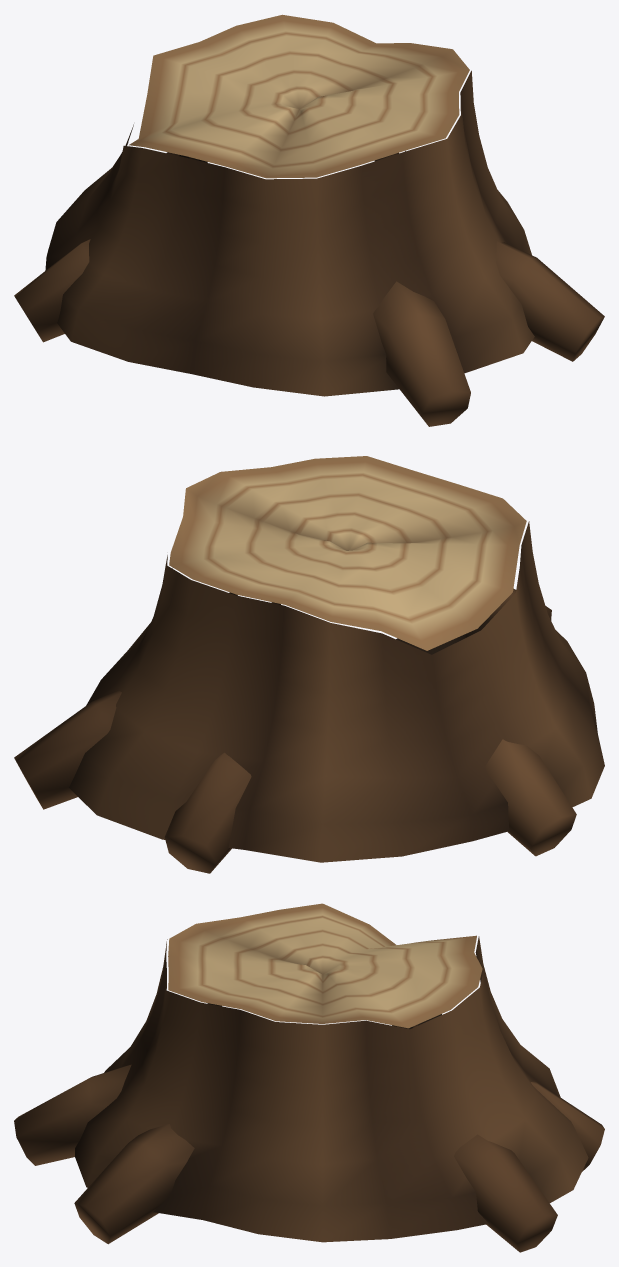
File: tree-stump-v3.glb
The picture shows the model from 3 angles, top to bottom: view 1: azimuth 30°, elevation 25°; view 2: azimuth 150°, elevation 25°; view 3: azimuth 270°, elevation 25°; orthographic projection. The views are drawn at different scales.
Parts seen in each view (by area): view 1: 0_stump; view 2: 0_stump; view 3: 0_stump.
Boxes of the visible parts, bbox=[...] form: 0_stump: bbox=[14, 14, 604, 426]; 0_stump: bbox=[14, 456, 604, 873]; 0_stump: bbox=[14, 903, 604, 1252].
Size of the model in its own units: 1.28 by 0.595 by 1.49.
